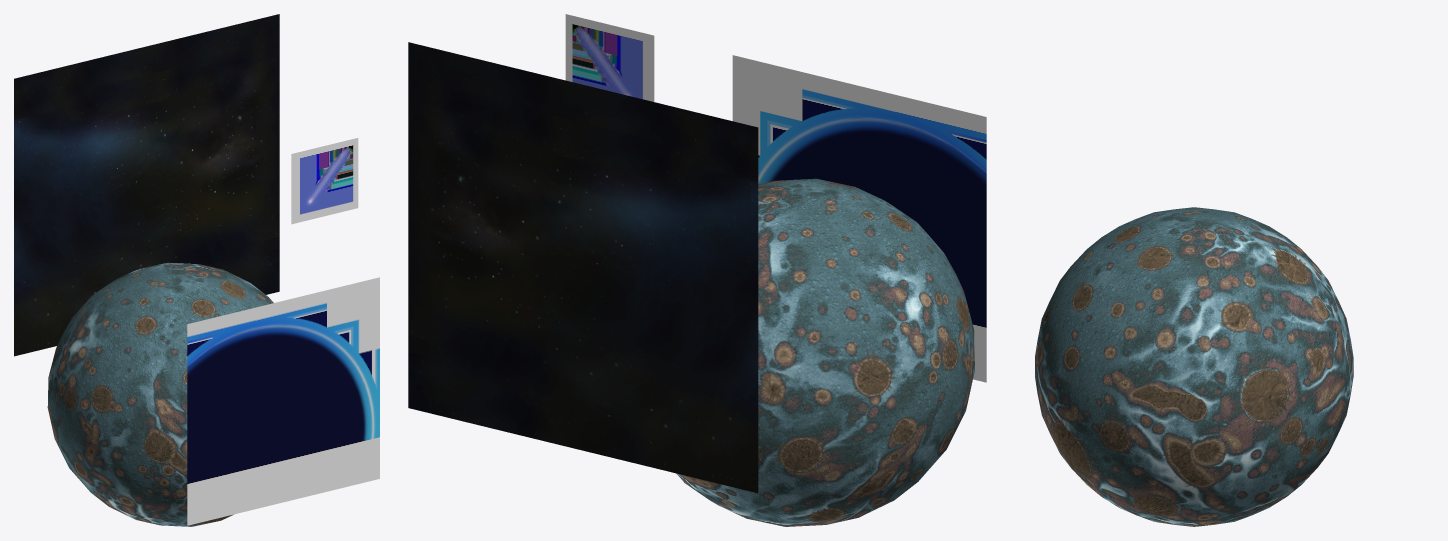
The model's file is menu_background.FBX.
3 views of the same model, side by side, from view 1: azimuth 30°, elevation 25°; view 2: azimuth 150°, elevation 25°; view 3: azimuth 270°, elevation 25° (orthographic). The views are drawn at different scales.
Visible parts, largest first — view 1: menu_background, menu_planet_light, menu_planet, menu_meteor; view 2: menu_background, menu_planet, menu_planet_light, menu_meteor; view 3: menu_planet.
Part boxes in pixels (left/top/right/bottom): menu_background: left=14, top=14, right=279, bottom=356; menu_planet_light: left=187, top=277, right=379, bottom=525; menu_planet: left=47, top=262, right=273, bottom=526; menu_meteor: left=291, top=138, right=358, bottom=224; menu_background: left=408, top=42, right=758, bottom=493; menu_planet: left=676, top=178, right=974, bottom=526; menu_planet_light: left=732, top=55, right=986, bottom=382; menu_meteor: left=565, top=14, right=654, bottom=101; menu_planet: left=1035, top=207, right=1353, bottom=526.
Size of the model in its own units: 11380 by 13195 by 10897.
